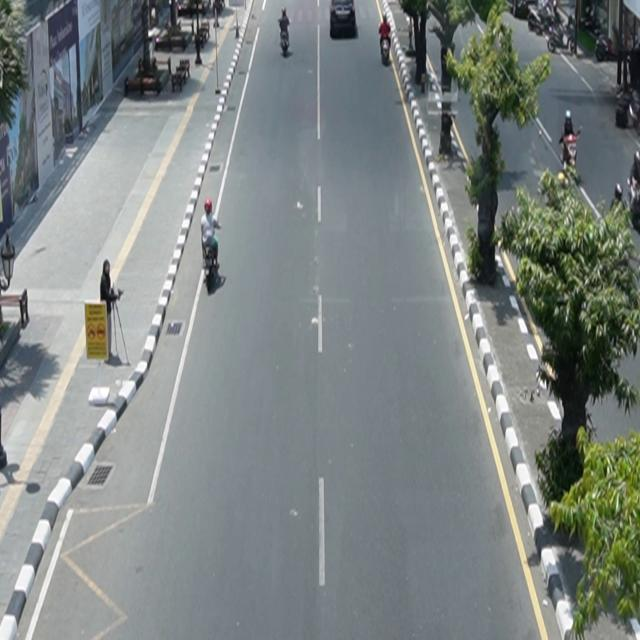car: (330, 1, 356, 38)
